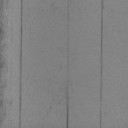surface scratch: (19, 0, 23, 128), (100, 0, 104, 79), (66, 91, 69, 128), (100, 82, 102, 101), (100, 111, 102, 128)
